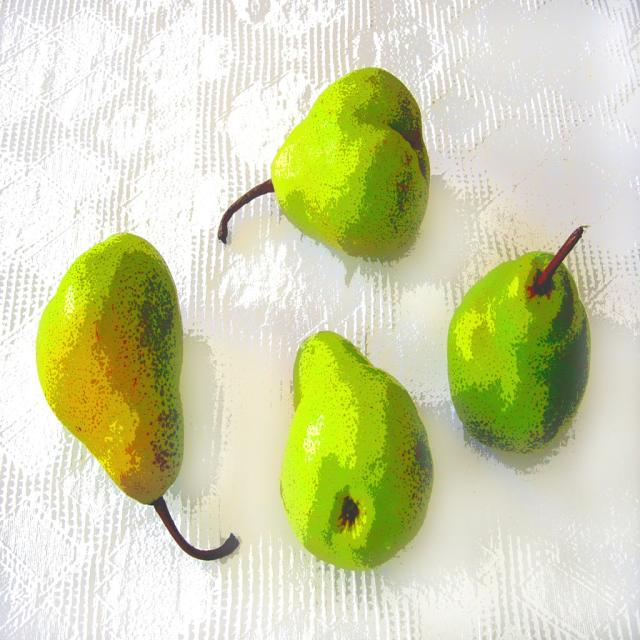pear: (36, 232, 188, 506), (278, 329, 436, 573), (268, 64, 431, 264), (446, 250, 592, 457)
